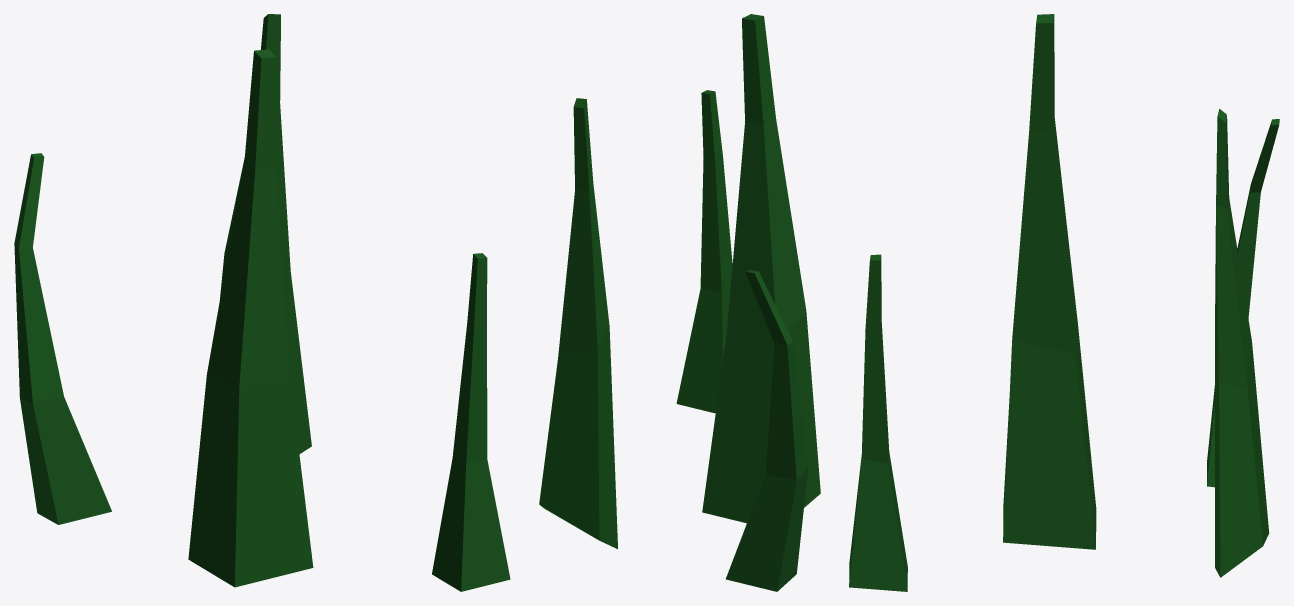
Rendered from Grass01.glb.
The picture shows the model from 3 angles, left to right: view 1: azimuth 30°, elevation 25°; view 2: azimuth 150°, elevation 25°; view 3: azimuth 270°, elevation 25°; orthographic projection. The views are drawn at different scales.
Parts seen in each view (by area): view 1: Grass_01; view 2: Grass_01; view 3: Grass_01.
Part boxes in pixels (x1,y1,x2,y2): Grass_01: (14, 14, 510, 591); Grass_01: (539, 14, 820, 591); Grass_01: (849, 14, 1279, 591).
Size of the model in its own units: 0.3642 by 0.61 by 0.4564.
